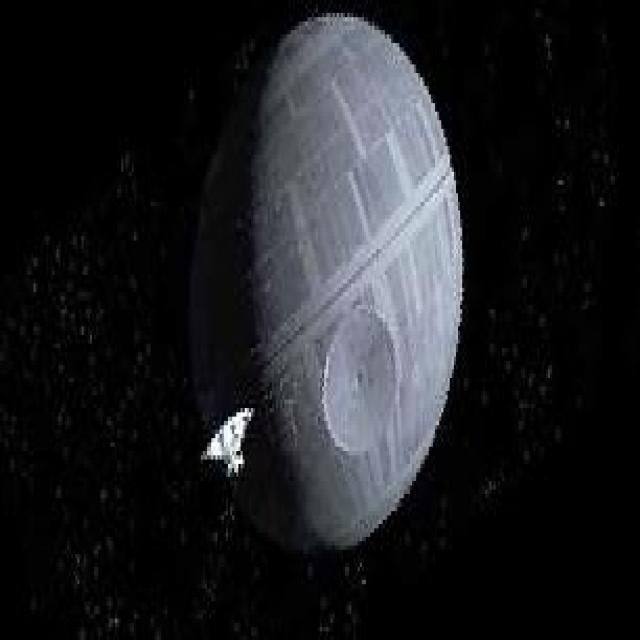Death Star: (188, 9, 469, 562)
